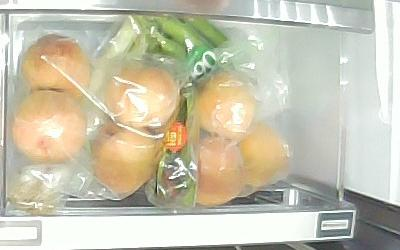peach_vinyl: (12, 90, 86, 160), (104, 66, 177, 129), (92, 125, 157, 194), (21, 35, 89, 97), (197, 75, 251, 135), (199, 138, 246, 204), (243, 125, 291, 186)
